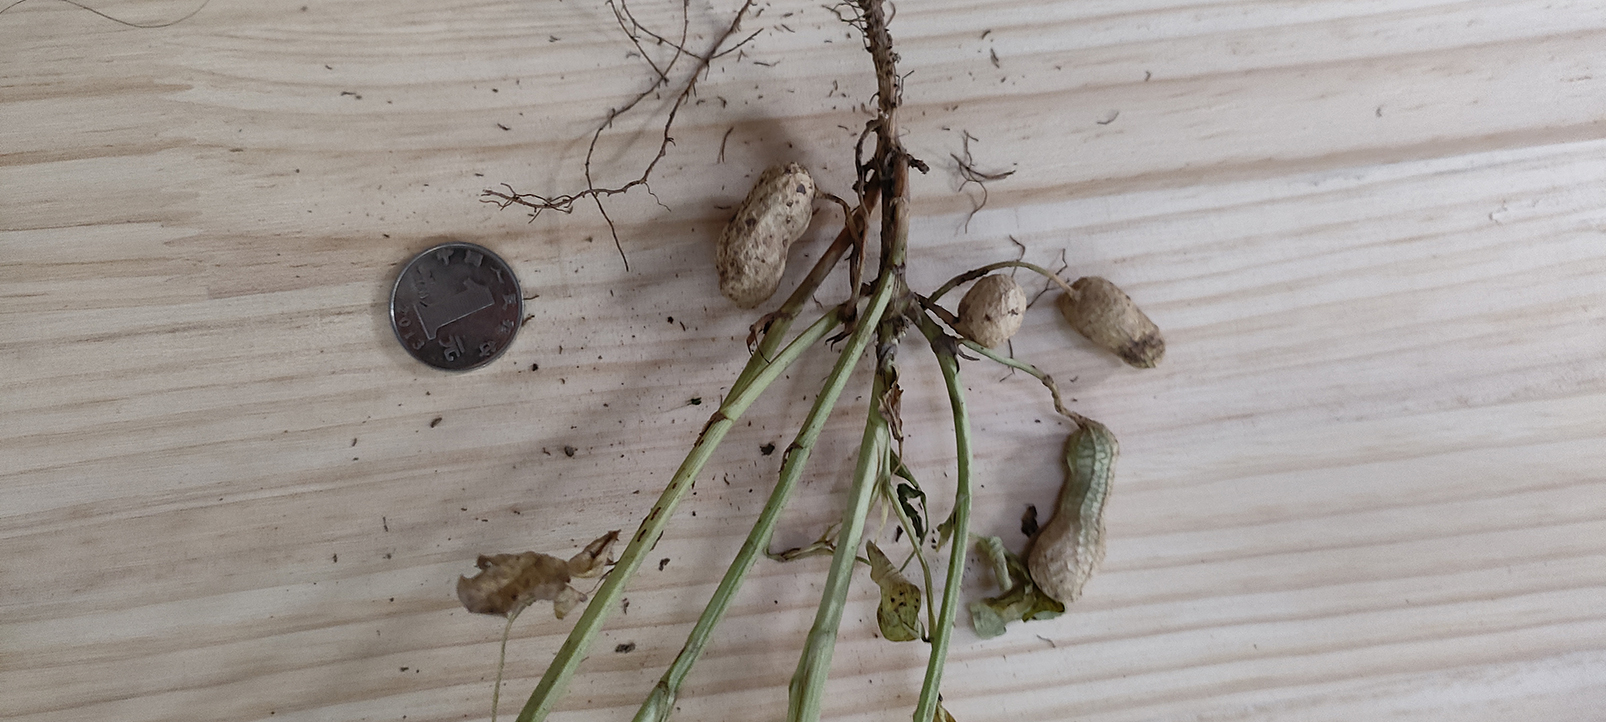h: (1026, 419, 1118, 609), (716, 162, 820, 309), (1058, 277, 1168, 370), (957, 275, 1028, 347)
